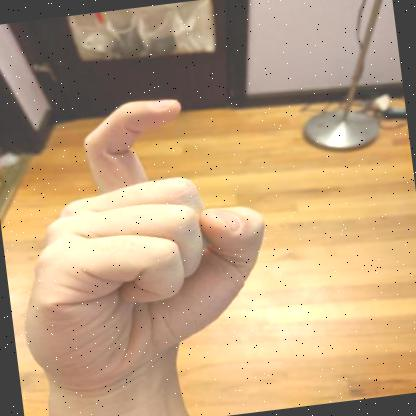X: (25, 99, 264, 382)
